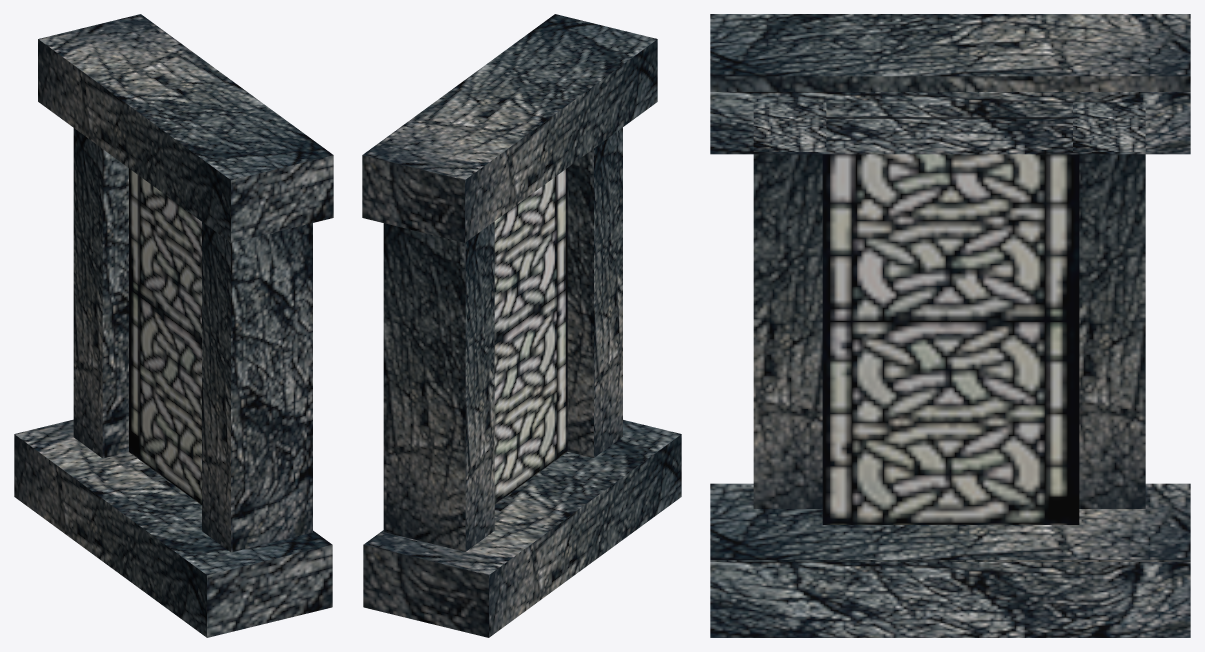
File: windowCity16.FBX
The picture shows the model from 3 angles, left to right: view 1: azimuth 30°, elevation 25°; view 2: azimuth 150°, elevation 25°; view 3: azimuth 270°, elevation 25°; orthographic projection. The views are drawn at different scales.
Parts seen in each view (by area): view 1: WindowCity16; view 2: WindowCity16; view 3: WindowCity16.
Part boxes in pixels (<box>): WindowCity16: <box>14,14,333,637</box>; WindowCity16: <box>362,14,681,637</box>; WindowCity16: <box>710,14,1190,637</box>.
Size of the model in its own units: 49.31 by 130 by 168.
